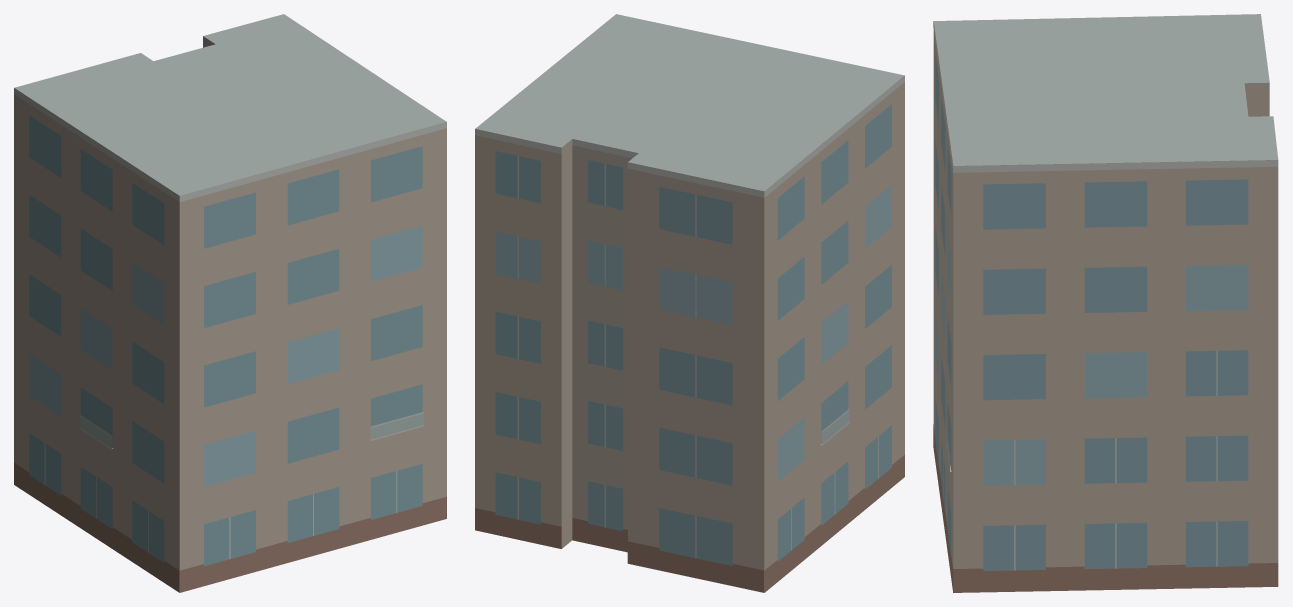
File: survey-upis-32644427.glb
The picture shows the model from 3 angles, left to right: view 1: azimuth 30°, elevation 25°; view 2: azimuth 150°, elevation 25°; view 3: azimuth 270°, elevation 25°; orthographic projection. The views are drawn at different scales.
Visible parts, largest first — view 1: survey-upis-32644427.tmp; view 2: survey-upis-32644427.tmp; view 3: survey-upis-32644427.tmp.
Part boxes in pixels (<box>): survey-upis-32644427.tmp: <box>14,14,446,592</box>; survey-upis-32644427.tmp: <box>475,14,904,592</box>; survey-upis-32644427.tmp: <box>933,14,1278,592</box>.
Size of the model in its own units: 11.66 by 15.25 by 11.17.
